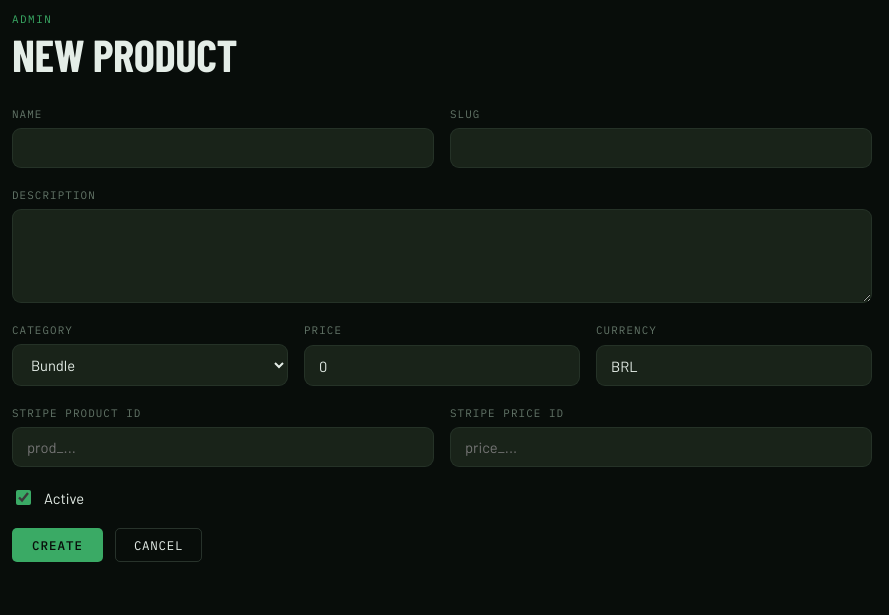
Scenario: AdminProductFormPage › shows generic error message on non-ApiError failure
Expected: the button "Create" is shown, [12,528,103,562]
Type "Product X" into the field labelled "Name" at (223, 148), box [12,128,434,168]
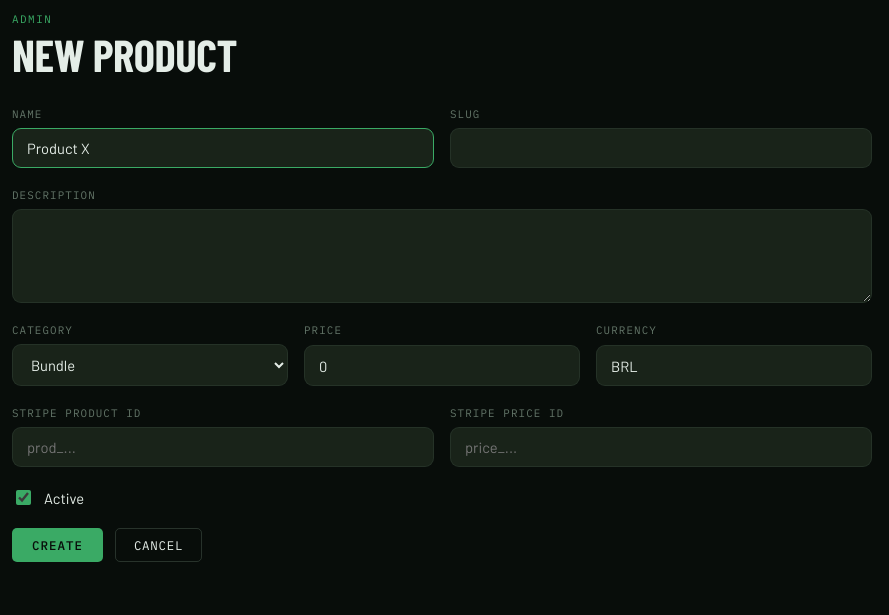
Type "product-x" into the field labelled "Slug" at (661, 148), box [450,128,872,168]
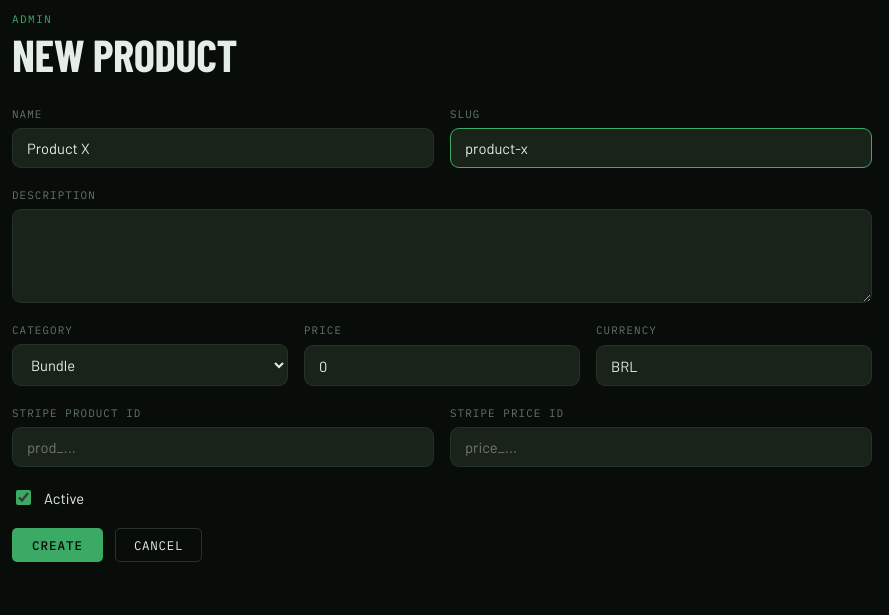
Type "Desc" into the text box labelled "Description" at (442, 256), box [12,209,872,303]
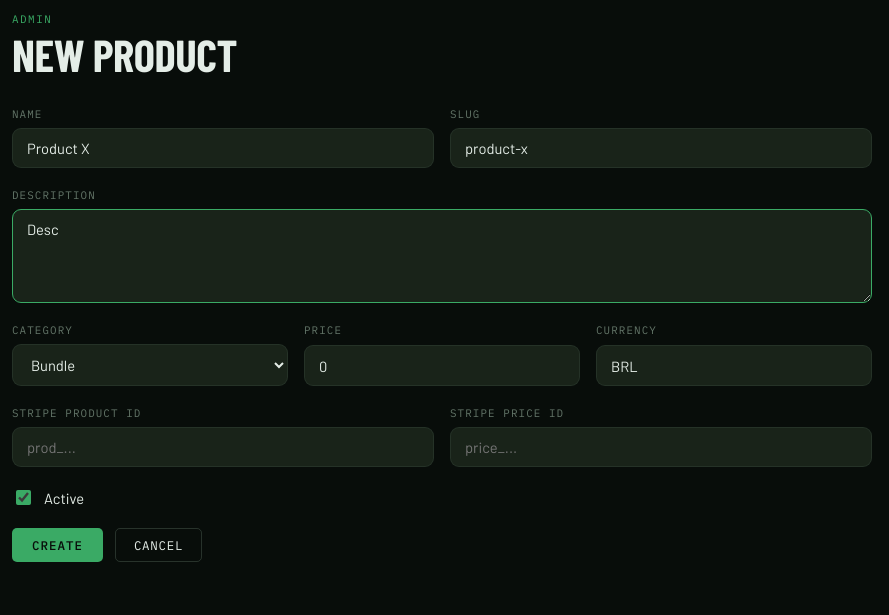
Click the button "Create" at (57, 545), box [12,528,103,562]
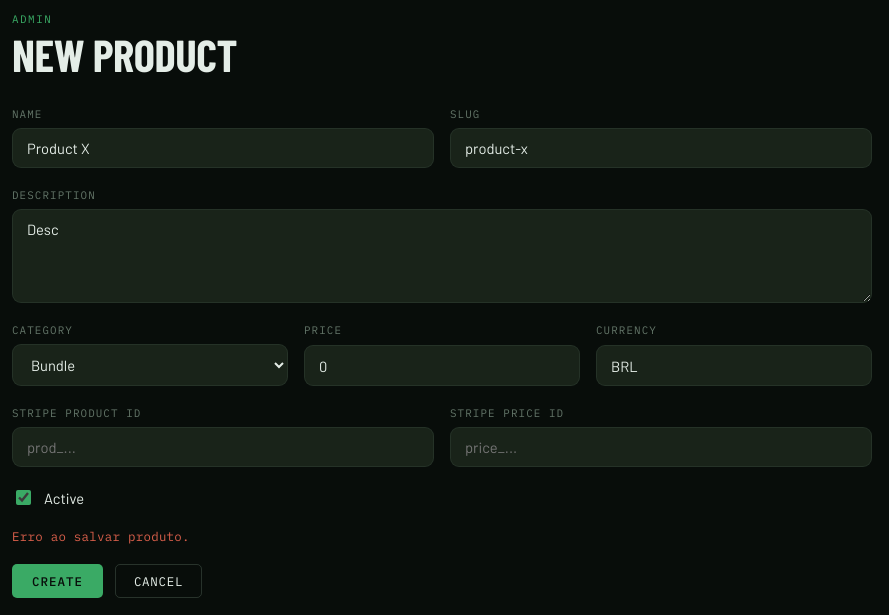
Now the text "Erro ao salvar produto." is shown, box [12,528,190,544]
